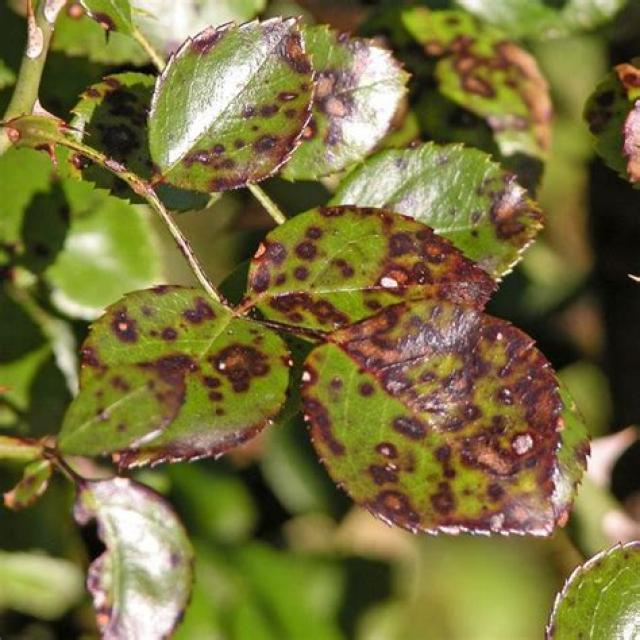blight: (360, 347, 526, 497)
